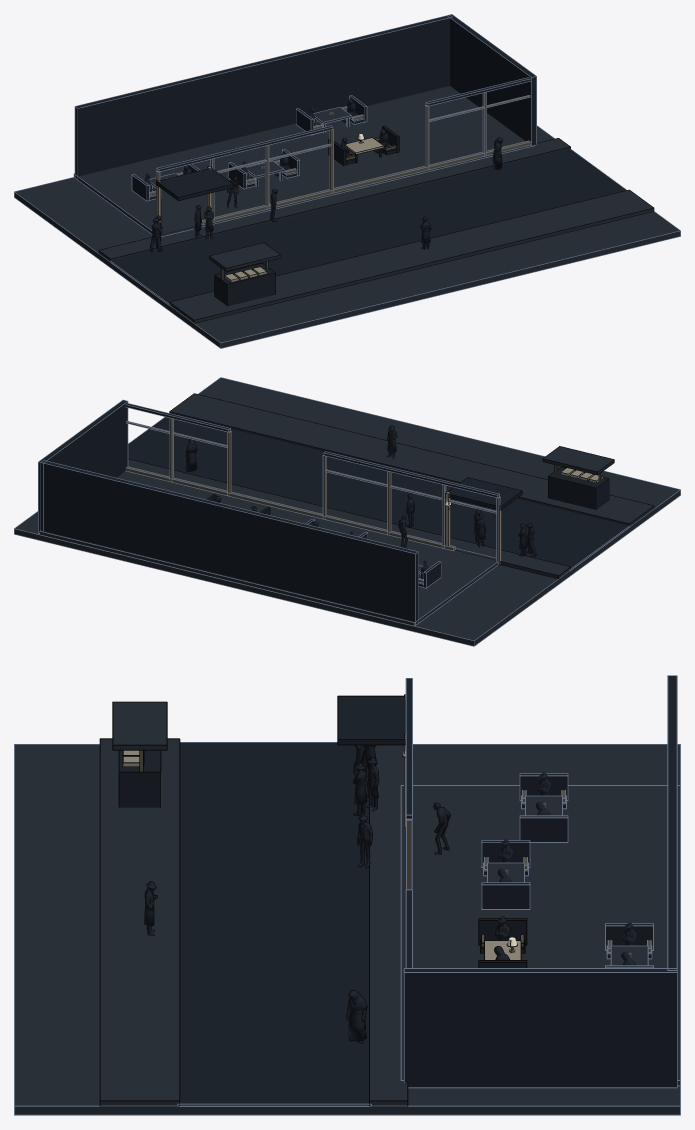
The model's file is 双目标跟拍.fbx.
3 views of the same model, one above another, from view 1: azimuth 30°, elevation 25°; view 2: azimuth 150°, elevation 25°; view 3: azimuth 270°, elevation 25° (orthographic). The views are drawn at different scales.
Visible parts, largest first — view 1: 饭店后墙, 车道.001, 街段底板, 饭店地板, 观察侧人行道, 描线_focus_双目标跟拍_暗, 饭店右墙, 饭店侧人行道, 描线_focus_双目标跟拍, 报摊柜身, 窗下框, 入口雨棚 (+2 smaller); view 2: 饭店后墙, 车道.001, 街段底板, 观察侧人行道, 描线_focus_双目标跟拍_暗, 饭店地板, 饭店右墙, 饭店侧人行道, 描线_focus_双目标跟拍, 报摊柜身, 窗下框, 入口雨棚 (+3 smaller); view 3: 车道.001, 街段底板, 饭店地板, 饭店右墙, 观察侧人行道, 饭店侧人行道, 描线_focus_双目标跟拍_暗, 描线_focus_双目标跟拍, 入口雨棚, 饭店后墙, 报摊顶棚, 报摊柜身 (+8 smaller).
Boxes of the visible parts, x1,y1,x2,y2 form: 饭店后墙: [75, 16, 450, 179]; 车道.001: [111, 149, 625, 304]; 街段底板: [14, 126, 680, 347]; 饭店地板: [74, 86, 534, 236]; 观察侧人行道: [169, 190, 653, 322]; 描线_focus_双目标跟拍_暗: [14, 14, 680, 348]; 饭店右墙: [448, 14, 536, 145]; 饭店侧人行道: [99, 138, 570, 261]; 描线_focus_双目标跟拍: [98, 125, 654, 323]; 报摊柜身: [215, 263, 274, 306]; 窗下框: [201, 141, 530, 224]; 入口雨棚: [157, 169, 232, 200]; 饭店后墙: [43, 461, 418, 621]; 车道.001: [128, 417, 628, 569]; 街段底板: [14, 378, 680, 645]; 观察侧人行道: [170, 394, 653, 526]; 描线_focus_双目标跟拍_暗: [14, 377, 680, 646]; 饭店地板: [40, 471, 497, 625]; 饭店右墙: [38, 400, 127, 533]; 饭店侧人行道: [128, 459, 570, 578]; 描线_focus_双目标跟拍: [128, 393, 654, 578]; 报摊柜身: [548, 467, 608, 509]; 窗下框: [125, 467, 454, 550]; 入口雨棚: [449, 478, 522, 509]; 车道.001: [178, 742, 370, 1105]; 街段底板: [15, 744, 679, 1114]; 饭店地板: [401, 786, 679, 1085]; 饭店右墙: [404, 969, 676, 1087]; 观察侧人行道: [100, 739, 179, 1105]; 饭店侧人行道: [370, 745, 407, 1105]; 描线_focus_双目标跟拍_暗: [14, 675, 680, 1115]; 描线_focus_双目标跟拍: [99, 694, 527, 1106]; 入口雨棚: [338, 696, 405, 744]; 饭店后墙: [668, 676, 676, 967]; 报摊顶棚: [113, 702, 166, 749]; 报摊柜身: [119, 750, 160, 807].
Size of the model in its own units: 2705 by 436 by 2105.
